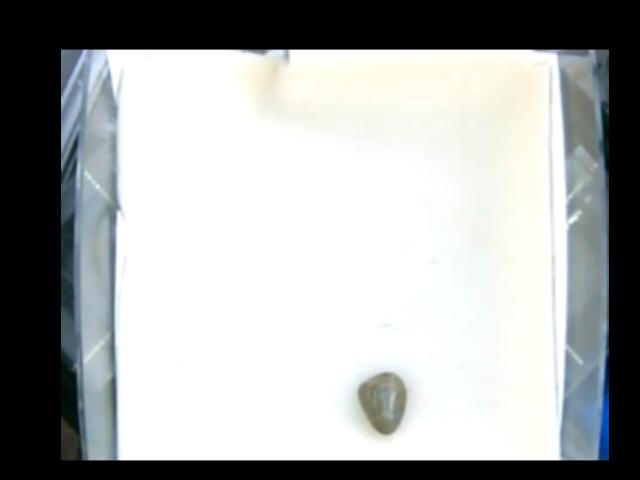Pebble: (357, 370, 406, 434)
